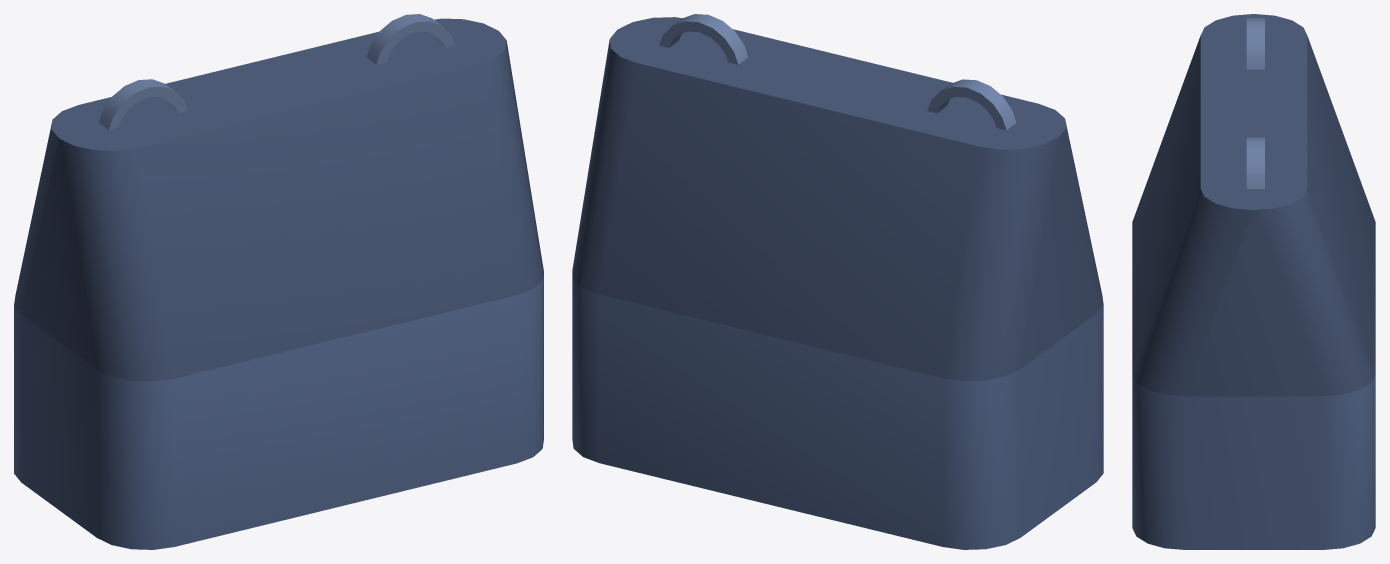
The model's file is Concrete Block C.fbx.
3 views of the same model, side by side, from view 1: azimuth 30°, elevation 25°; view 2: azimuth 150°, elevation 25°; view 3: azimuth 270°, elevation 25° (orthographic). The views are drawn at different scales.
Parts seen in each view (by area): view 1: Concrete Box; view 2: Concrete Box; view 3: Concrete Box.
Boxes of the visible parts, <box> form: Concrete Box: <box>14,14,543,549</box>; Concrete Box: <box>572,14,1103,549</box>; Concrete Box: <box>1132,14,1375,549</box>.
Size of the model in its own units: 1.48 by 1.31 by 0.778.
